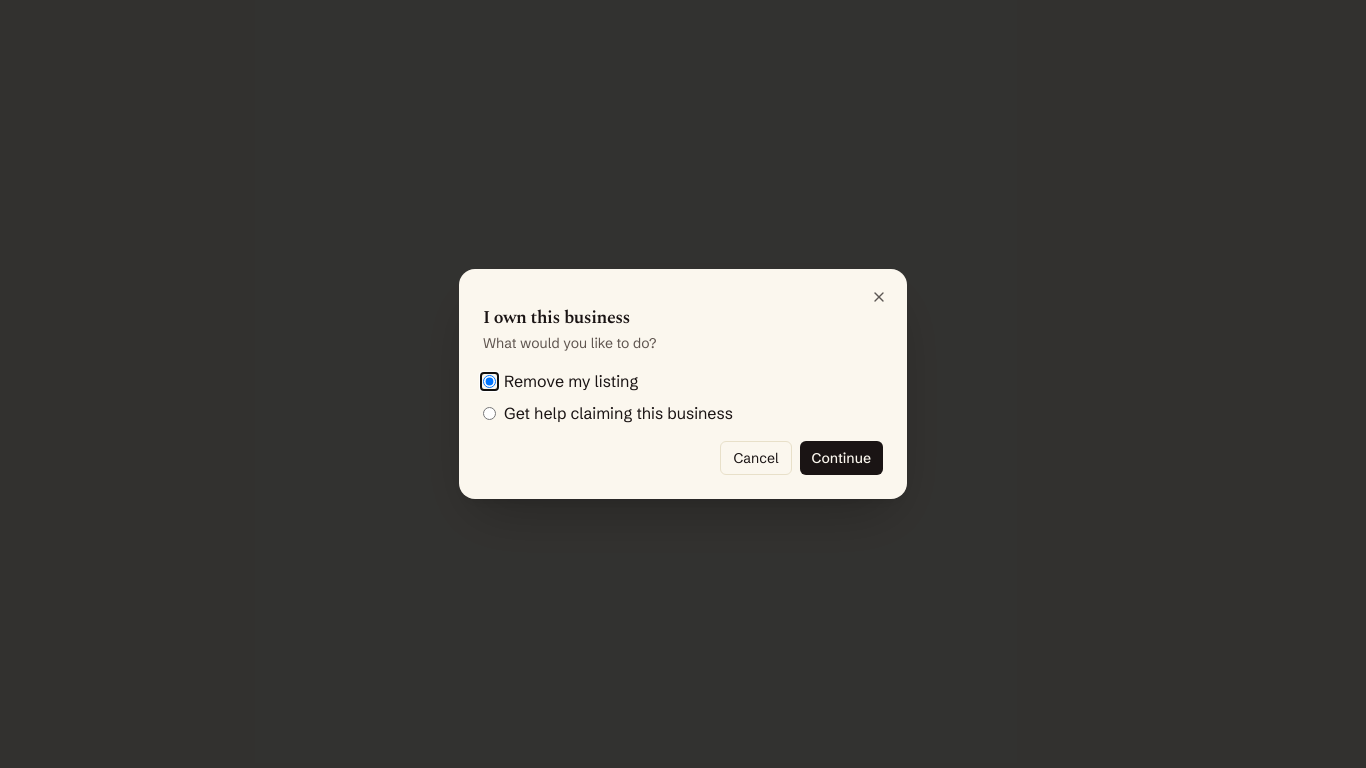
it: <OwnThisBusinessModal> › navigates to claim form on selection
This screenshot has width=1366, height=768.
Click the radio button labelled "Get help claiming this business" at (490, 413), box [483,406,496,420]
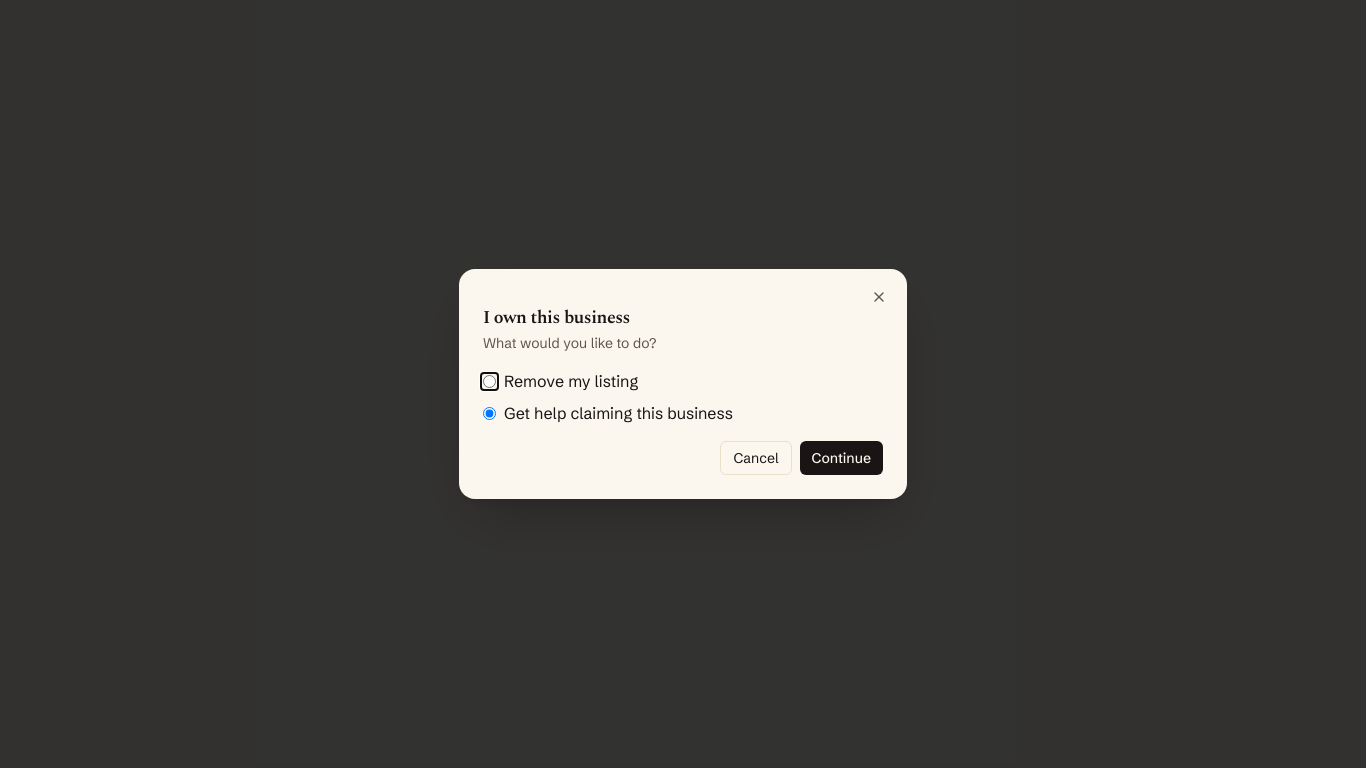
Click the button "Continue" at (841, 458), box [800,441,883,475]
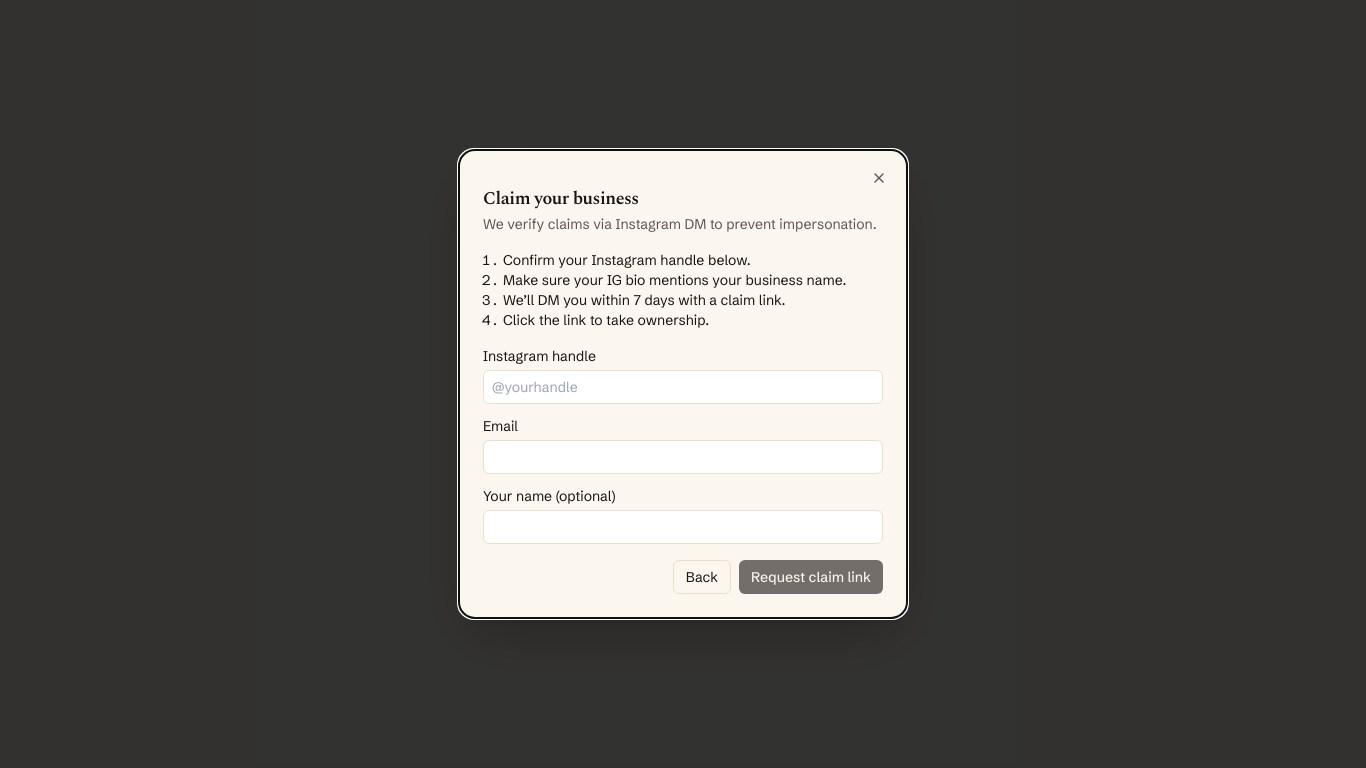
Expected: the heading "Claim your business" is shown, [483,185,639,212]
